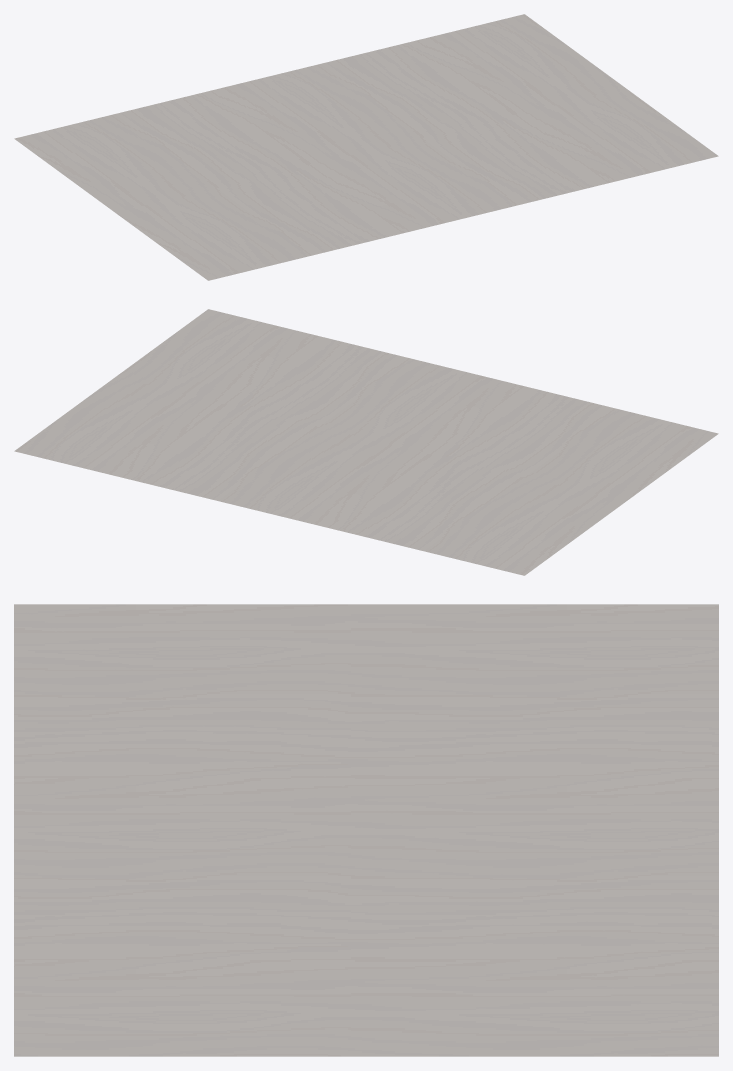
Rendered from kd_stage_135ded_4_85_exterior_piece_1.glb.
The picture shows the model from 3 angles, top to bottom: view 1: azimuth 30°, elevation 25°; view 2: azimuth 150°, elevation 25°; view 3: azimuth 270°, elevation 25°; orthographic projection. The views are drawn at different scales.
Parts seen in each view (by area): view 1: kd_stage_135ded_4_85_exterior_piece_1; view 2: kd_stage_135ded_4_85_exterior_piece_1; view 3: kd_stage_135ded_4_85_exterior_piece_1.
Boxes of the visible parts, left/top/right/bottom form: kd_stage_135ded_4_85_exterior_piece_1: left=14, top=14, right=718, bottom=280; kd_stage_135ded_4_85_exterior_piece_1: left=14, top=309, right=718, bottom=575; kd_stage_135ded_4_85_exterior_piece_1: left=14, top=604, right=718, bottom=1056.
Bounding box in the file's own units: 1.06 × 0 × 0.7.
Materials: 1 (1 with a texture image).
